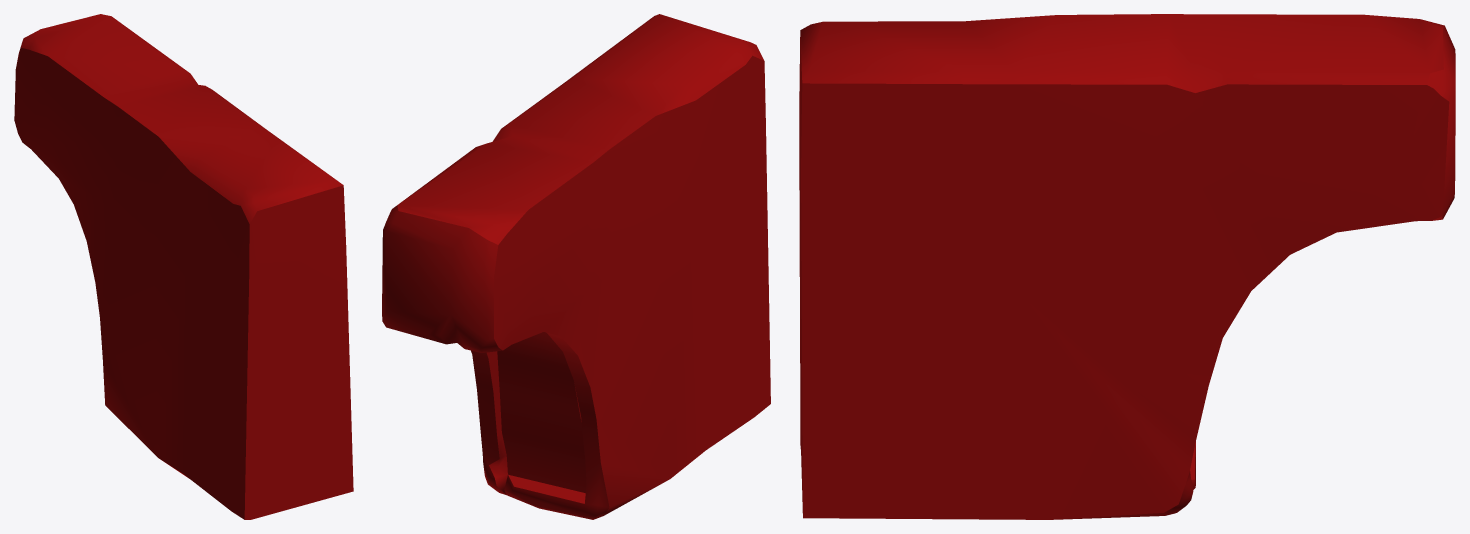
File: wall_join02.fbx
The picture shows the model from 3 angles, left to right: view 1: azimuth 30°, elevation 25°; view 2: azimuth 150°, elevation 25°; view 3: azimuth 270°, elevation 25°; orthographic projection. The views are drawn at different scales.
Parts seen in each view (by area): view 1: wall_join02; view 2: wall_join02; view 3: wall_join02.
Boxes of the visible parts, x1=… form: wall_join02: x1=14, y1=14, x2=353, y2=519; wall_join02: x1=382, y1=14, x2=770, y2=519; wall_join02: x1=799, y1=14, x2=1455, y2=519.
Size of the model in its own units: 0.9102 by 2.49 by 3.38.
